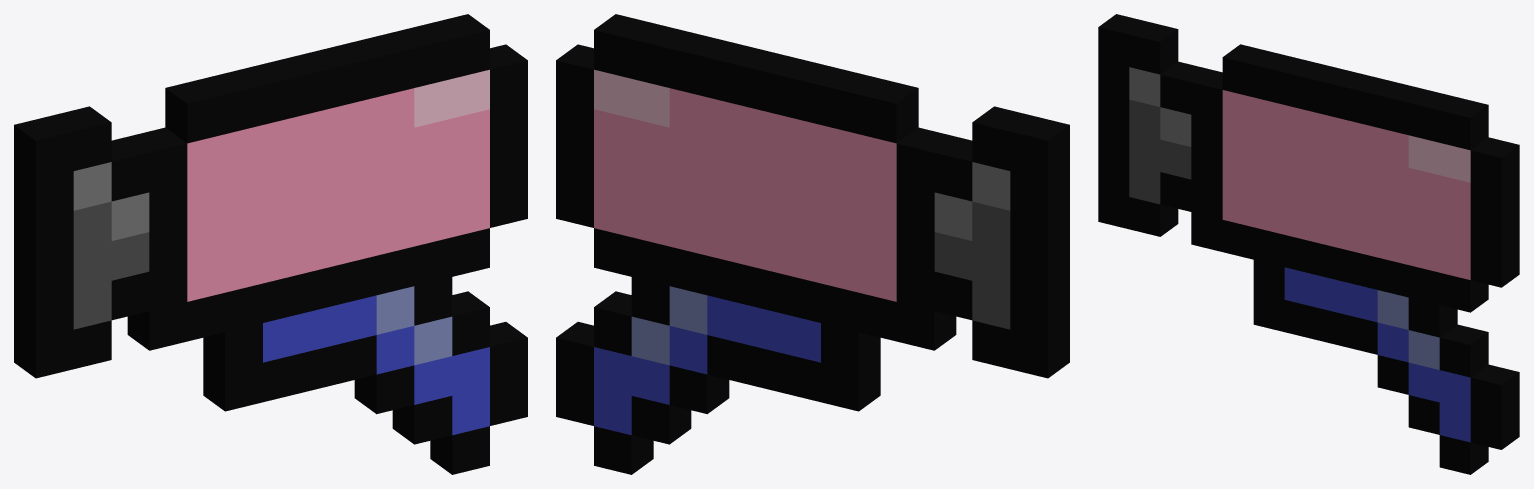
Rendered from Pink Paintball Gun.glb.
3 views of the same model, side by side, from view 1: azimuth 30°, elevation 25°; view 2: azimuth 150°, elevation 25°; view 3: azimuth 330°, elevation 25° (orthographic). The views are drawn at different scales.
Parts seen in each view (by area): view 1: generated(Clone); view 2: generated(Clone); view 3: generated(Clone).
Boxes of the visible parts, x1,y1,x2,y2 form: generated(Clone): (14,14,527,474); generated(Clone): (556,14,1069,474); generated(Clone): (1098,14,1519,474).
Size of the model in its own units: 13 by 11 by 1.
Materials: 1 (1 with a texture image).
